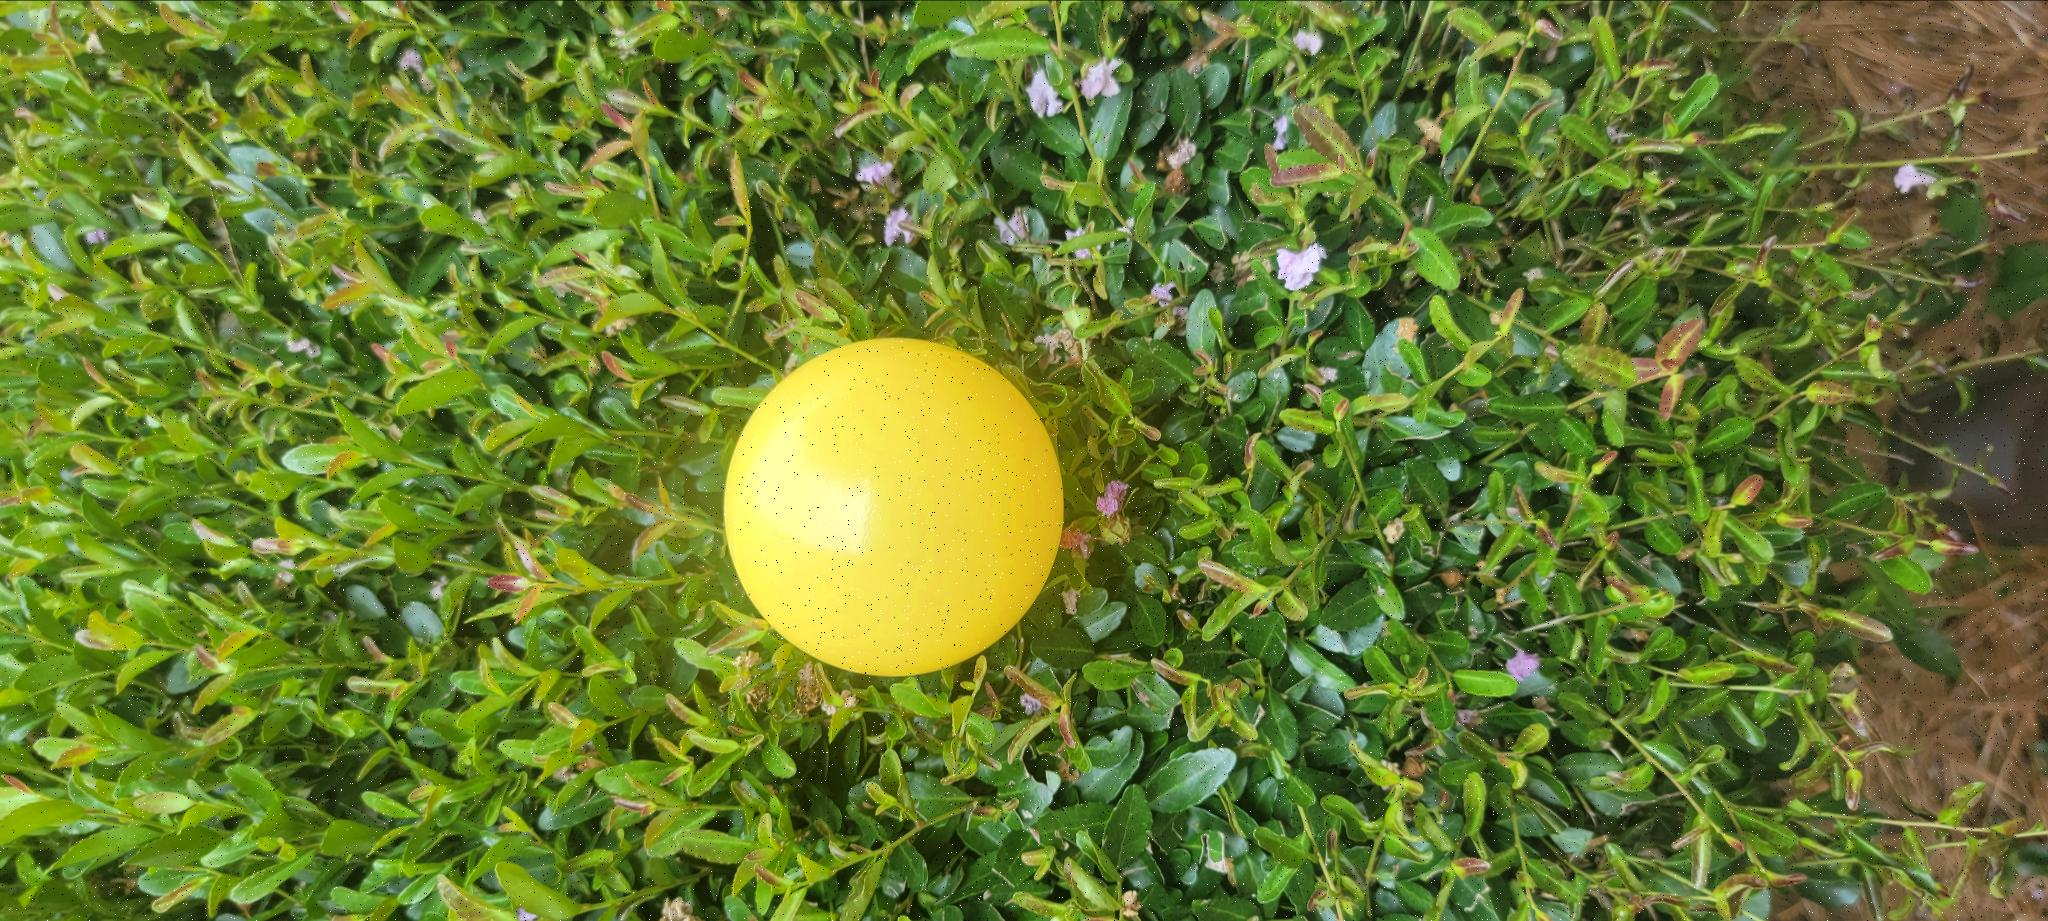Yellow-Ball: (987, 244, 1327, 587)
